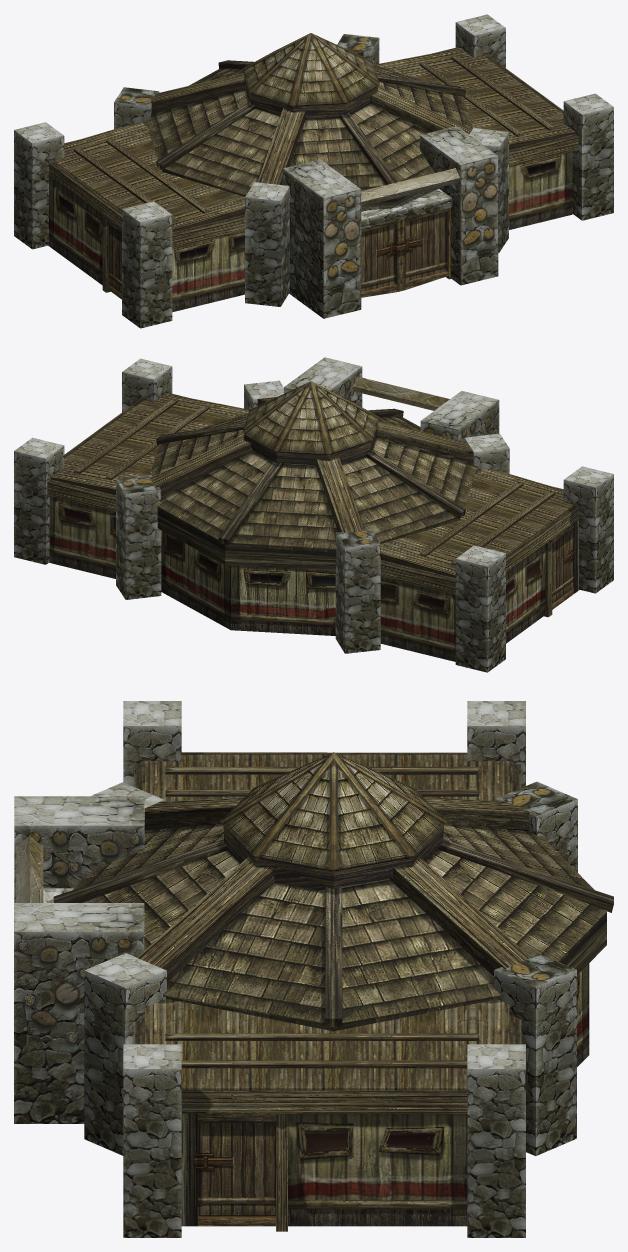
Rendered from ob-7-11-building01.fbx.
The picture shows the model from 3 angles, top to bottom: view 1: azimuth 30°, elevation 25°; view 2: azimuth 150°, elevation 25°; view 3: azimuth 270°, elevation 25°; orthographic projection. The views are drawn at different scales.
Parts seen in each view (by area): view 1: Sphere01; view 2: Sphere01; view 3: Sphere01.
Part boxes in pixels (x1,y1,x2,y2): Sphere01: (14, 14, 613, 328); Sphere01: (14, 357, 613, 672); Sphere01: (14, 701, 613, 1237).
Size of the model in its own units: 26.47 by 10.28 by 18.24.
